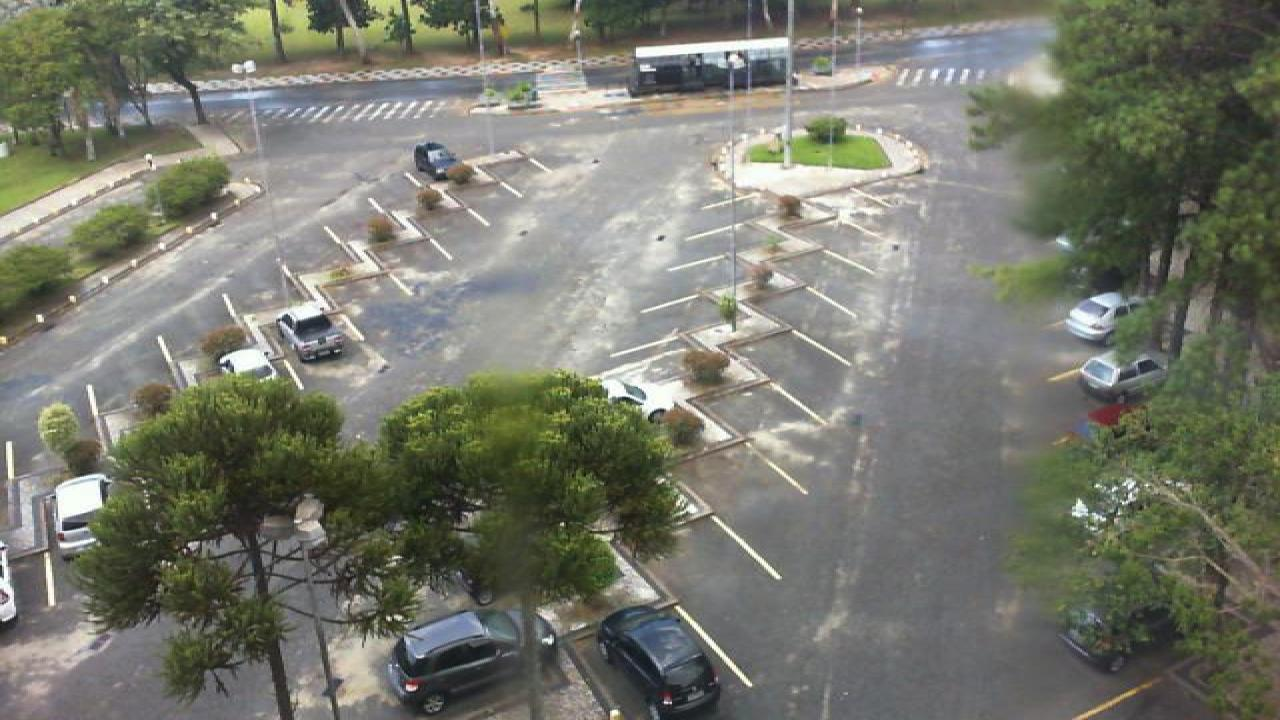Car: (386, 608, 558, 714), (594, 603, 722, 720), (1054, 610, 1140, 675), (50, 471, 114, 556), (1062, 289, 1144, 349), (1078, 353, 1168, 404), (274, 302, 346, 362), (598, 375, 680, 424), (1074, 402, 1148, 437), (216, 346, 274, 384), (412, 141, 462, 180), (0, 549, 20, 625)
